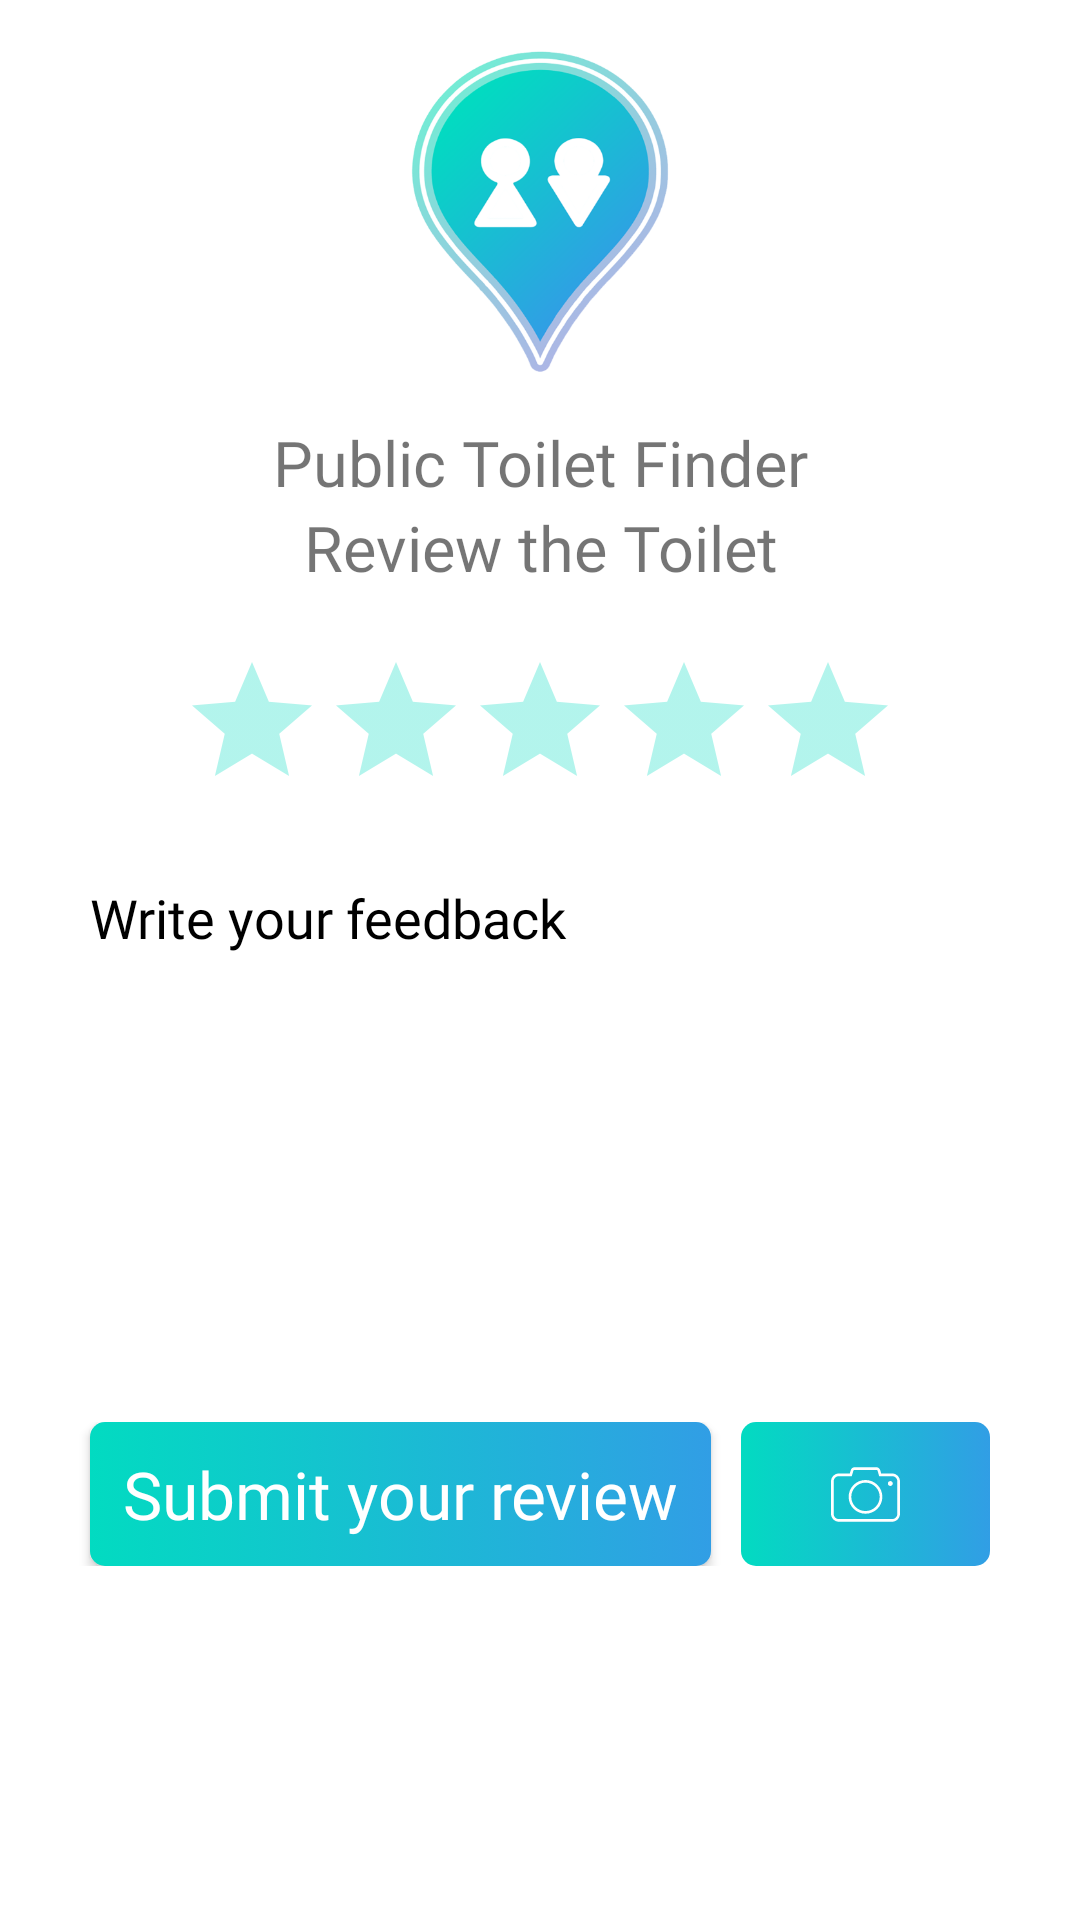

Where icons sit on this 1080 x 1920 app screen, as (x1, y1, x2, y2):
camera: (741, 1422, 990, 1566)
